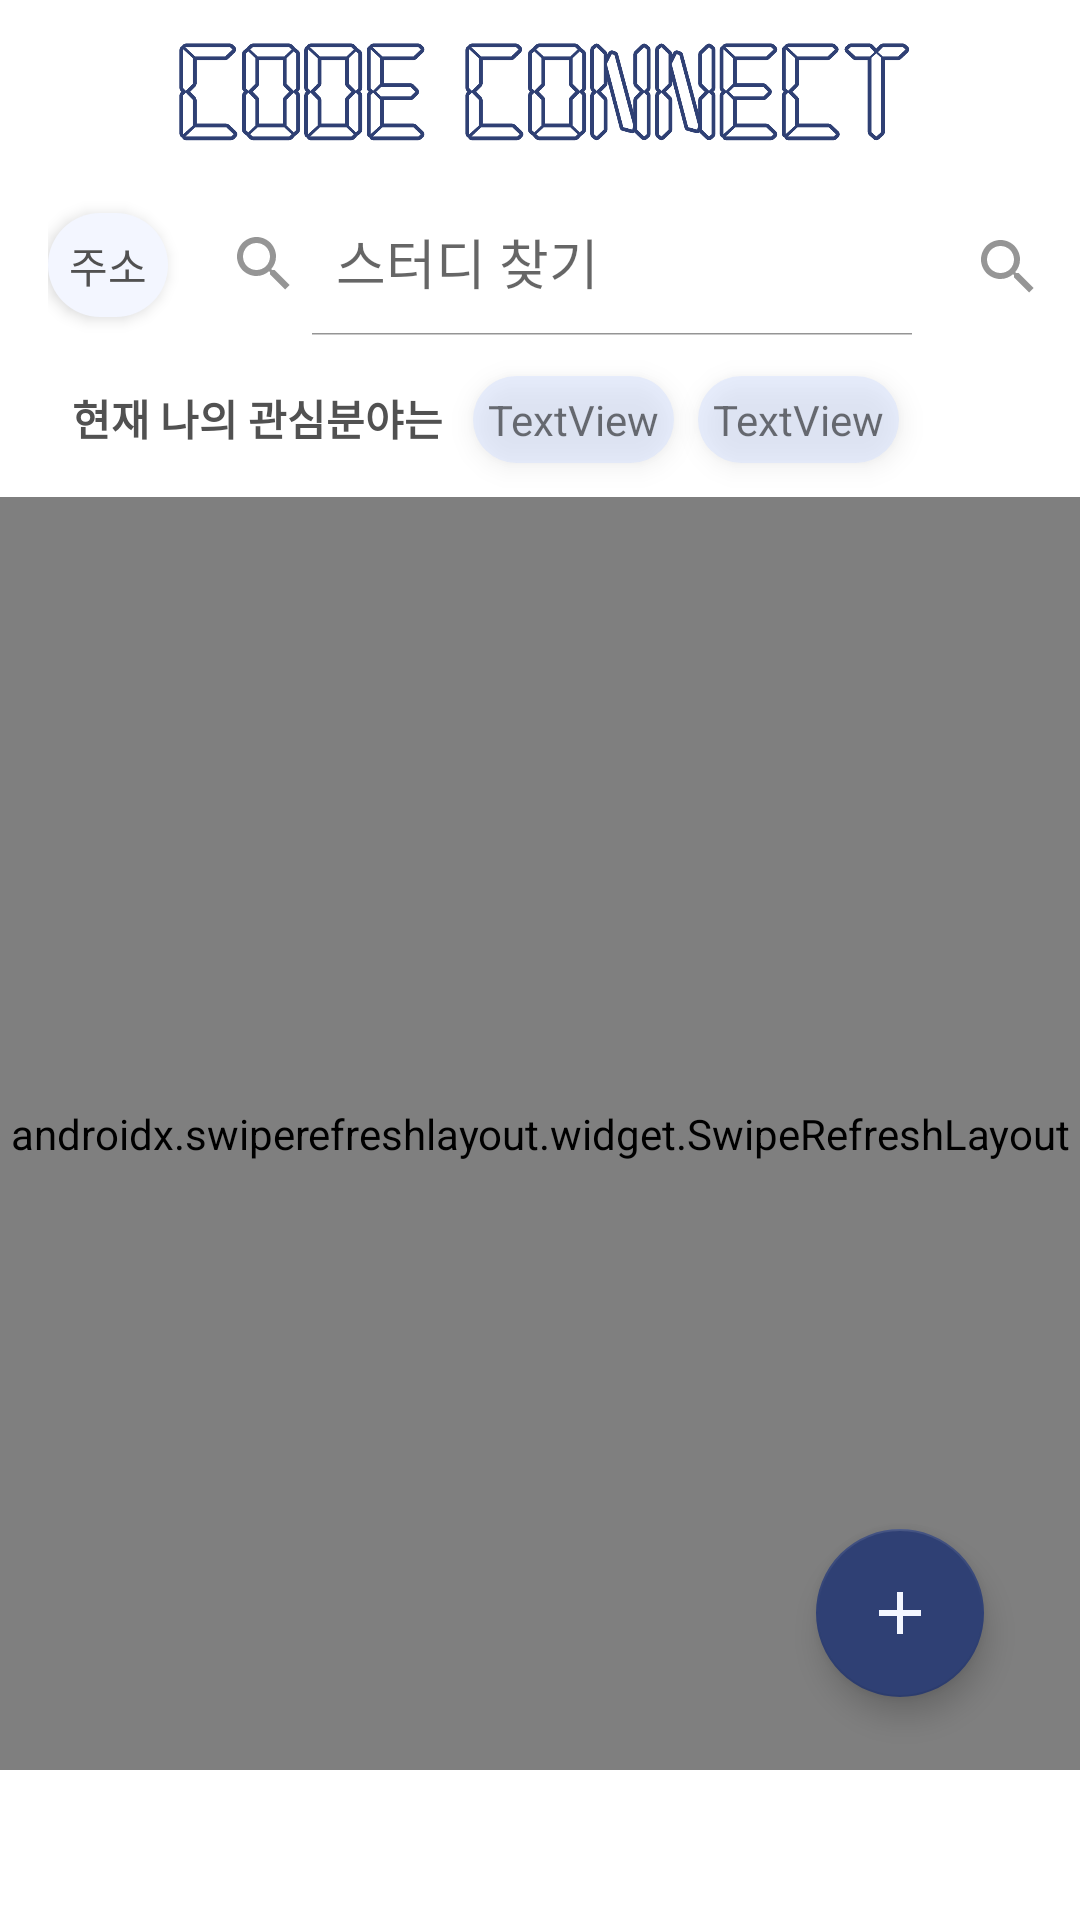

Icons on this 1080x1920 Android screen, each with its box as region(x1, y1, x2, y2):
add: region(816, 1529, 984, 1697)
